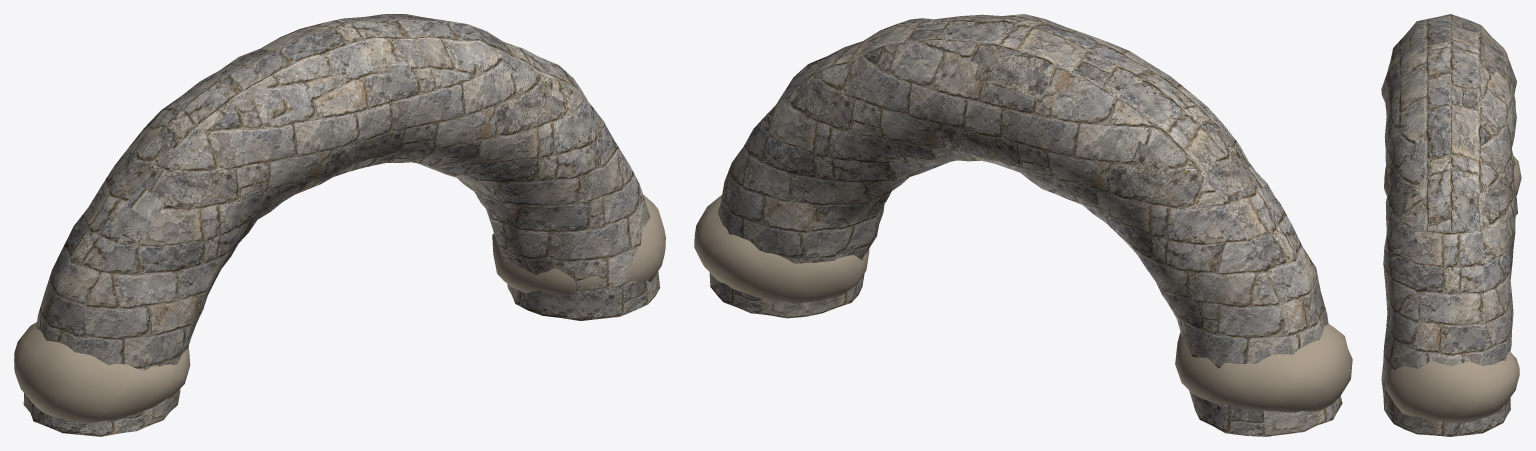
File: rock-arch-formation-v01.glb
3 views of the same model, side by side, from view 1: azimuth 30°, elevation 25°; view 2: azimuth 150°, elevation 25°; view 3: azimuth 270°, elevation 25° (orthographic). The views are drawn at different scales.
Parts seen in each view (by area): view 1: rock-arch-formation; view 2: rock-arch-formation; view 3: rock-arch-formation.
Boxes of the visible parts, x1,y1,x2,y2 form: rock-arch-formation: (14, 14, 665, 436); rock-arch-formation: (694, 14, 1352, 436); rock-arch-formation: (1381, 14, 1521, 436).
Size of the model in its own units: 5.29 by 2.56 by 1.21.
Materials: 1 (1 with a texture image).
